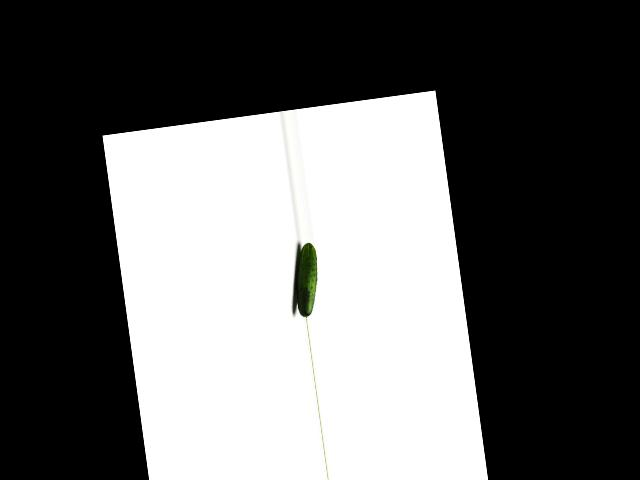cucumber: (288, 242, 324, 319)
